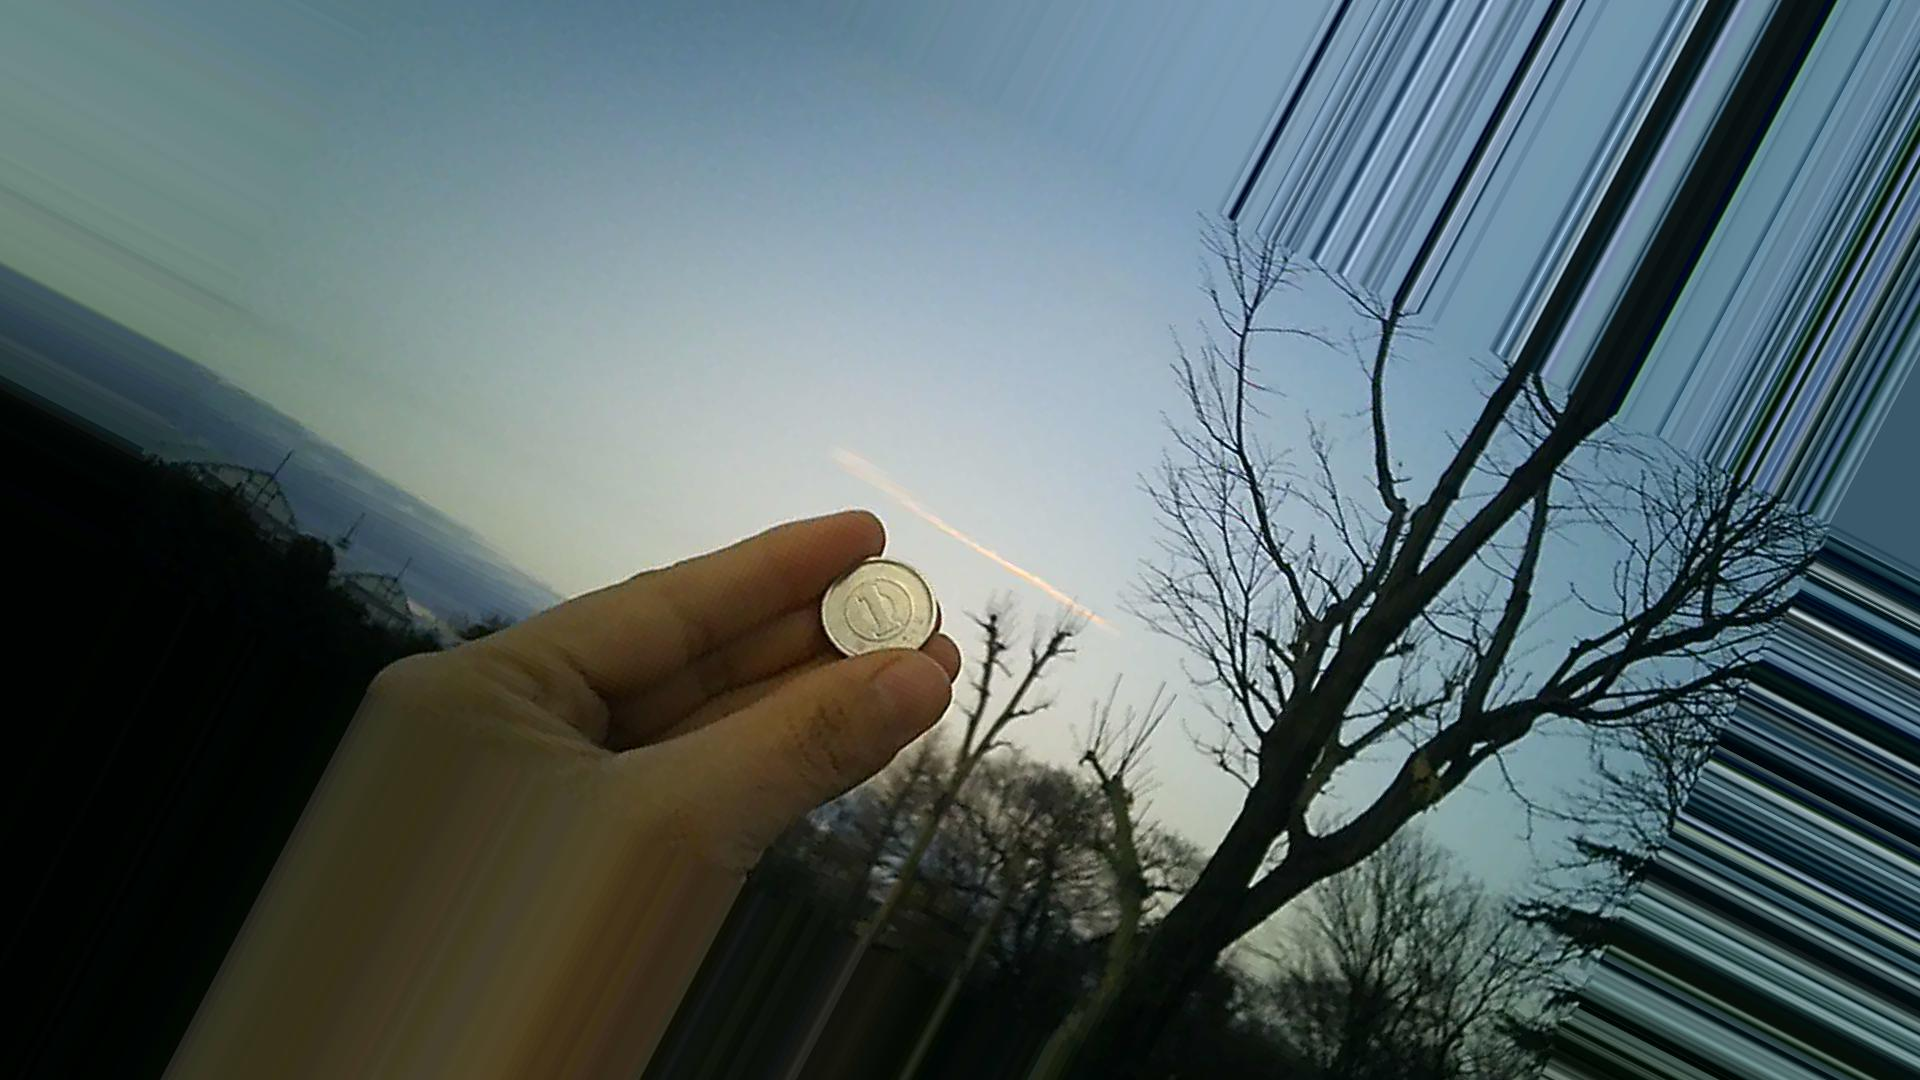1 Yen: (818, 555, 952, 673)
